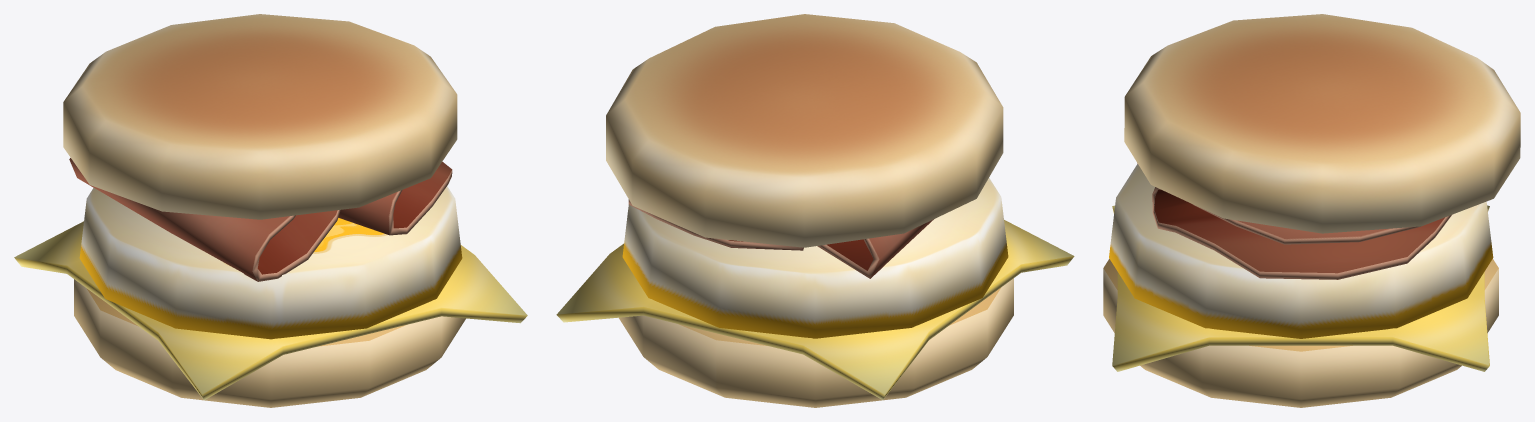
Rendered from HamEgg.FBX.
3 renders of one model, left to right at view 1: azimuth 30°, elevation 25°; view 2: azimuth 150°, elevation 25°; view 3: azimuth 270°, elevation 25°, orthographic.
Visible parts, largest first — view 1: Hamegg; view 2: Hamegg; view 3: Hamegg.
Part boxes in pixels (box(x1,y1,x2,y2)): Hamegg: box(14, 14, 527, 407); Hamegg: box(556, 14, 1074, 407); Hamegg: box(1103, 14, 1520, 407).
Bounding box in the file's own units: 20 × 13.92 × 21.1.
